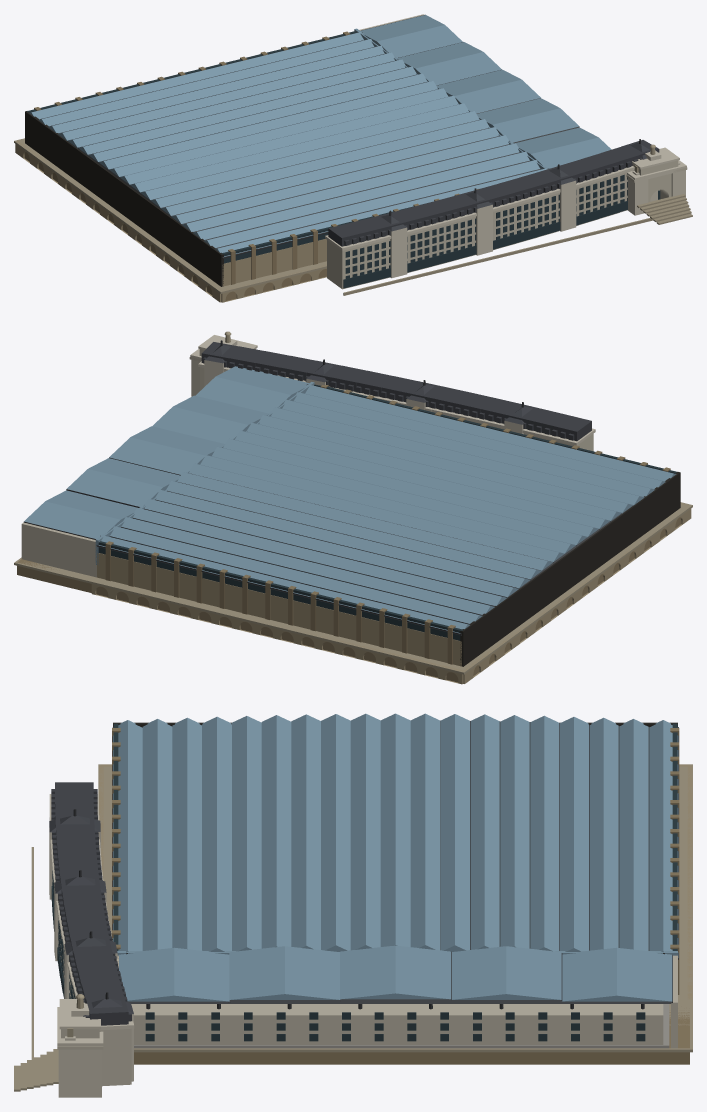
The model's file is waterloo_station.glb.
The picture shows the model from 3 angles, top to bottom: view 1: azimuth 30°, elevation 25°; view 2: azimuth 150°, elevation 25°; view 3: azimuth 270°, elevation 25°; orthographic projection. The views are drawn at different scales.
Parts seen in each view (by area): view 1: waterloo_station; view 2: waterloo_station; view 3: waterloo_station.
Boxes of the visible parts, left/top/right/bottom form: waterloo_station: left=14, top=14, right=692, bottom=302; waterloo_station: left=14, top=331, right=692, bottom=684; waterloo_station: left=14, top=713, right=692, bottom=1097.
Bounding box in the file's own units: 253 × 31.6 × 228.
